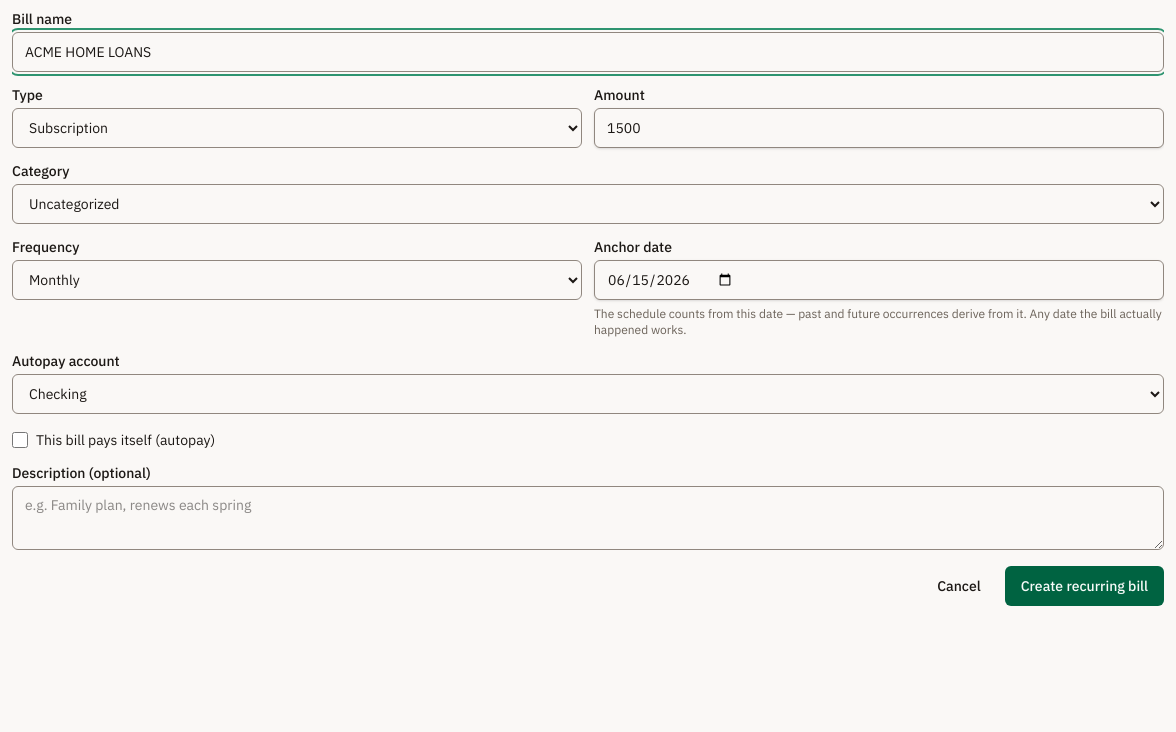
Test case: a declared-terms match ASKS whether it is the loan's payment, with the reason from its terms
Expected: the field labelled "Bill name" is shown, [12,32,1164,72]
What coordinates should you click on to do the following:
click the button "Create recurring bill"
I would click on:
 (1084, 586)
Its box is [1005,566,1164,606].
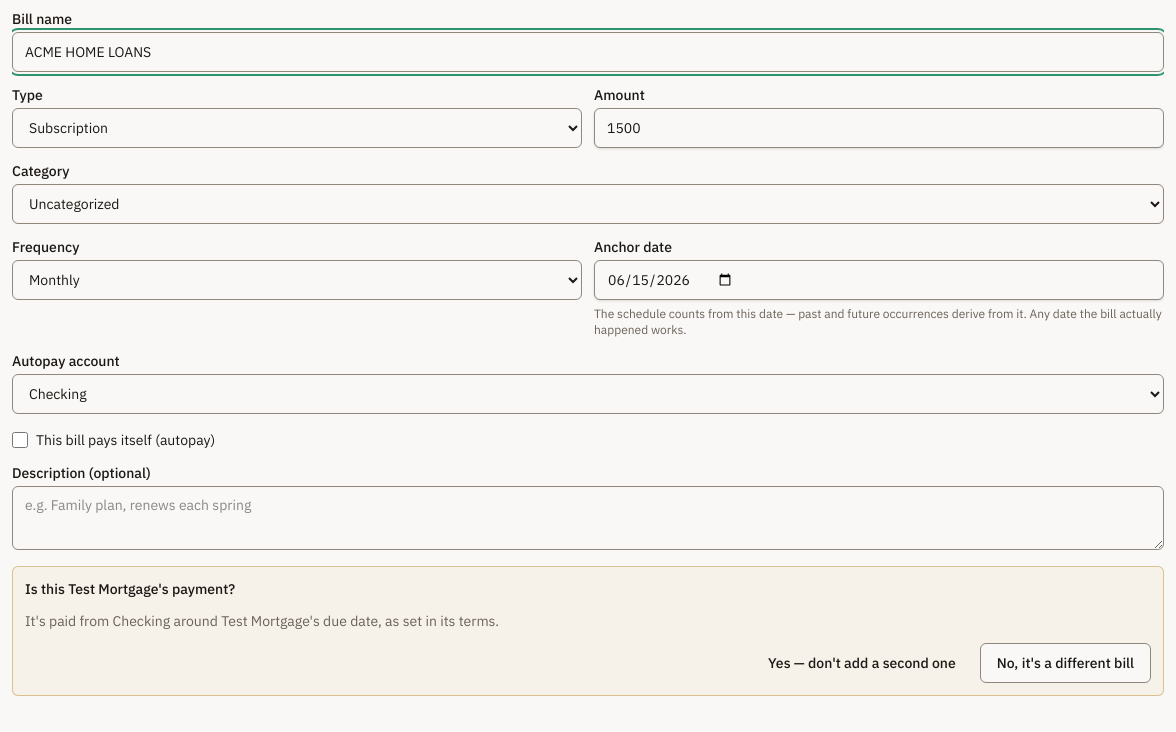
Now the text "Is this Test Mortgage's payment?" is shown, box [25,580,235,598]
Now the text "It's paid from Checking around Test Mortgage's due date, as set in its terms." is shown, box [25,612,499,630]
